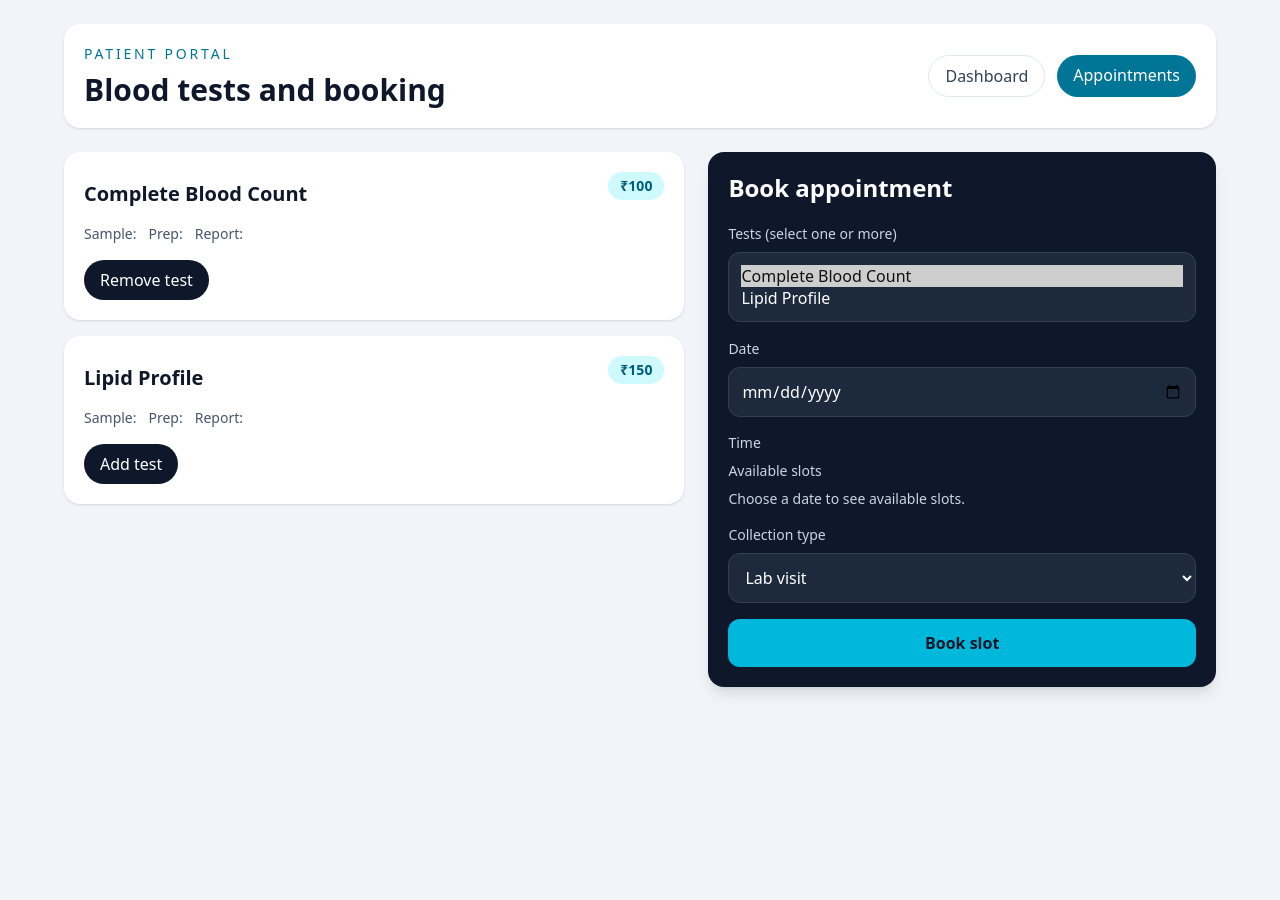
PatientTestsPage booking › books the selected slot through the existing appointment endpoint
The width and height of the screenshot is (1280, 900).
Step 1. Type "2026-10-05" into the date field labelled "Date" → coordinates (962, 392), box [728,367,1196,417]
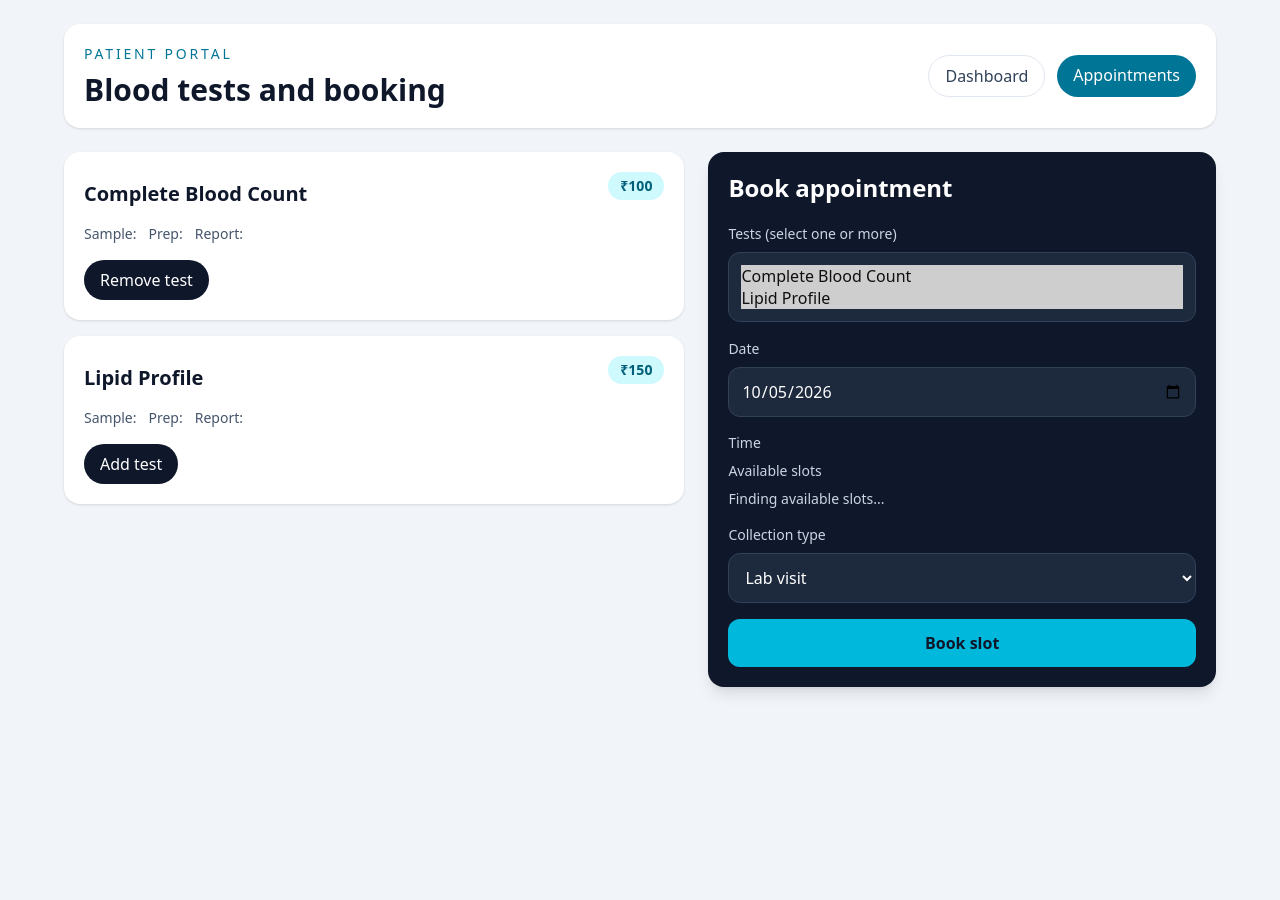
Step 2. Select "Complete Blood Count" in the dropdown labelled "Tests (select one or more)" → coordinates (962, 287), box [728,252,1196,322]
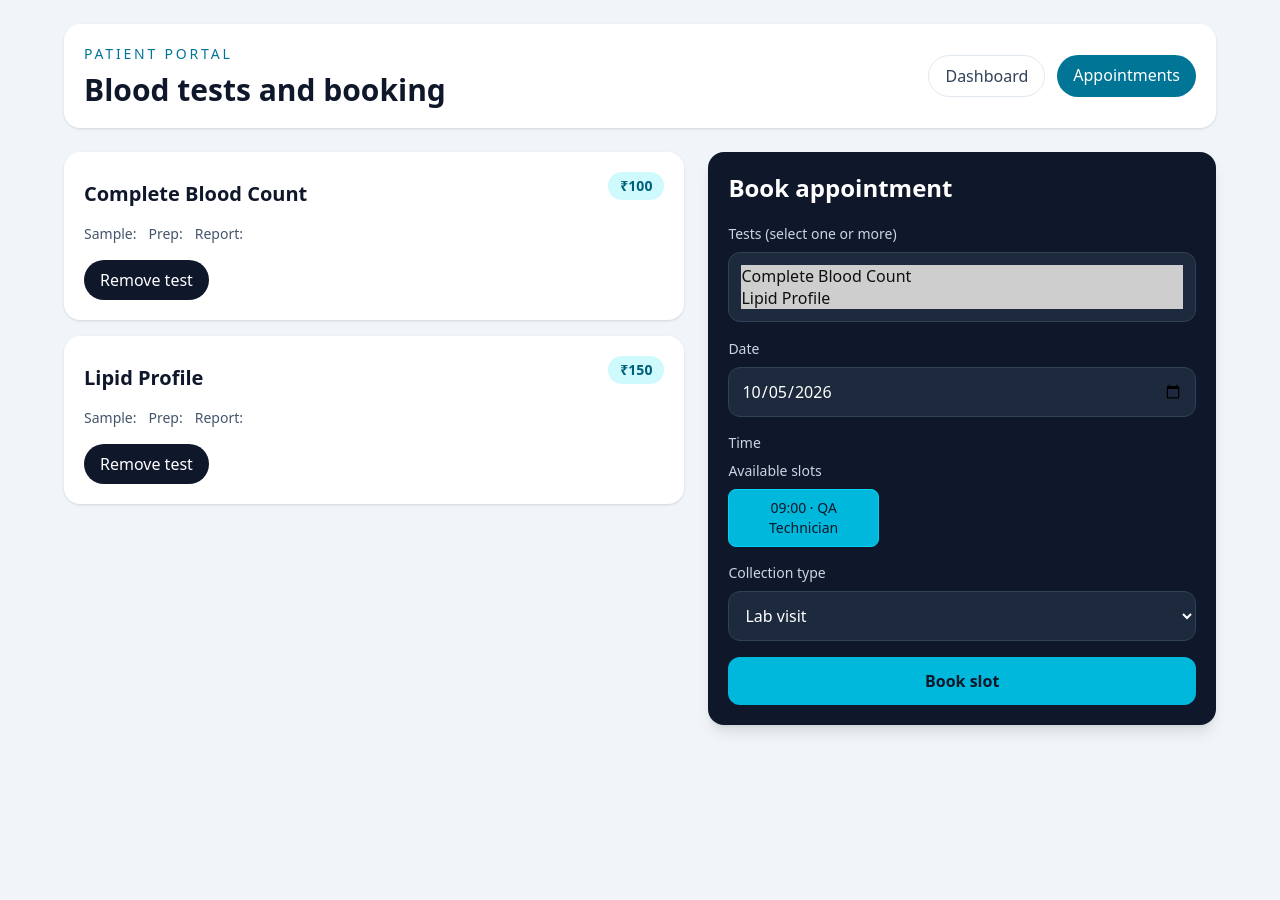
Expected: the button "09:00 · QA Technician" is shown, [728,489,879,547]
Step 3. Click the button "Book slot" → coordinates (962, 681), box [728,657,1196,705]
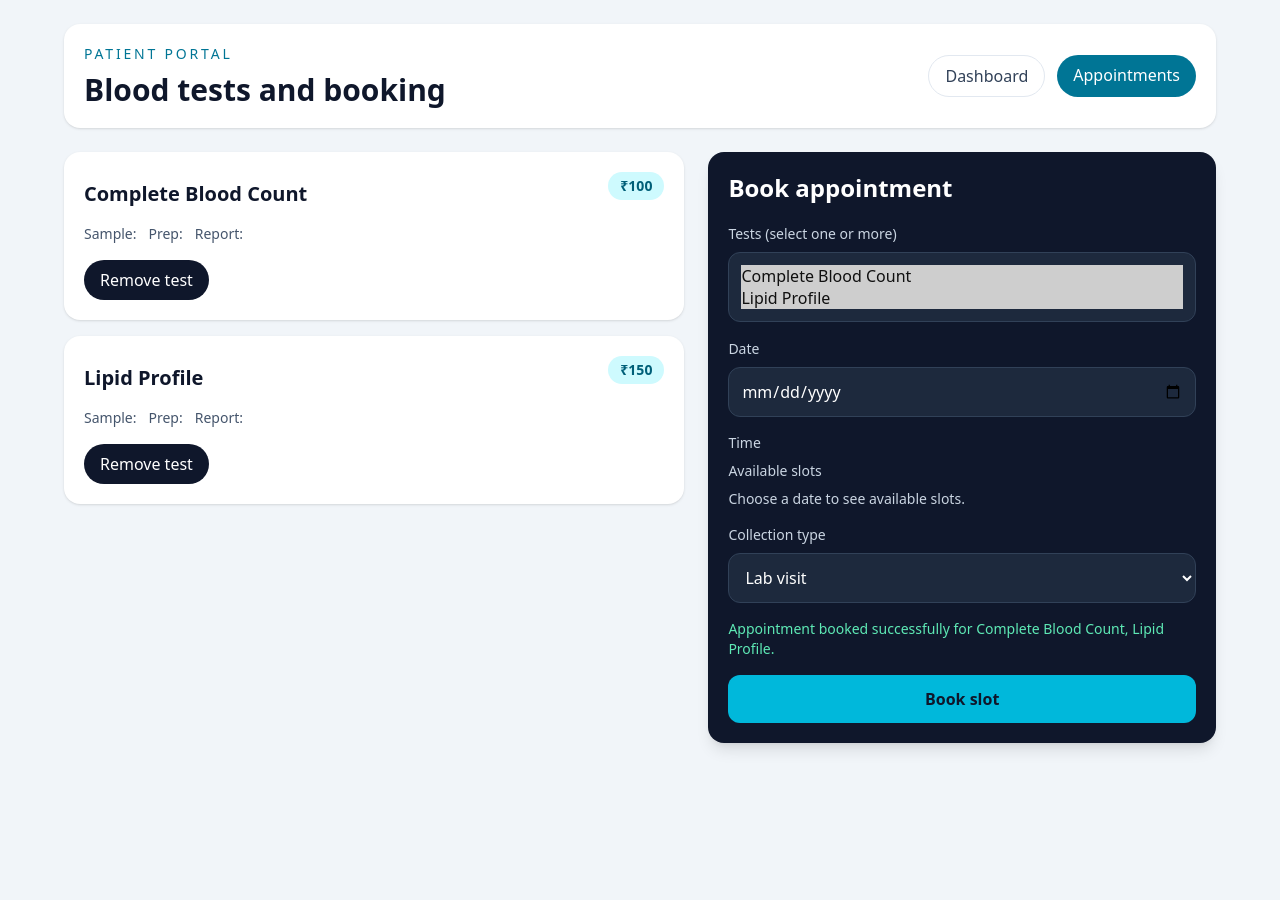
Expected: the text "Appointment booked successfully" is shown, [728,619,1164,658]
